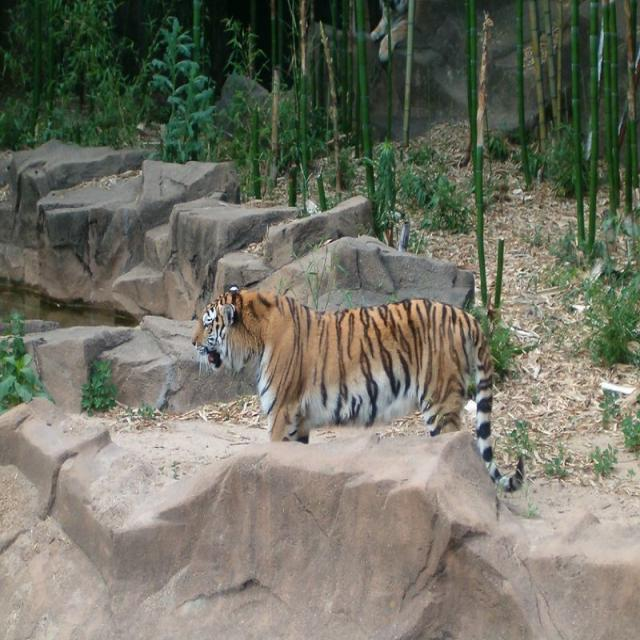Tiger: (191, 285, 521, 488)
